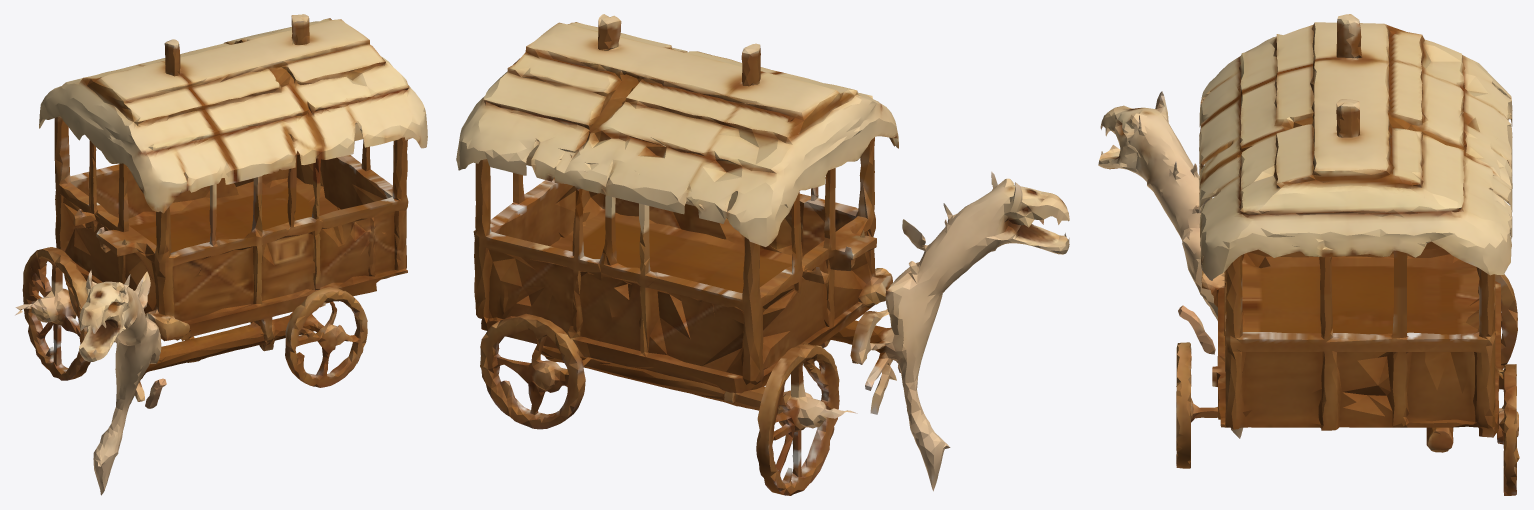
The model's file is undead_catapult.glb.
3 renders of one model, left to right at view 1: azimuth 30°, elevation 25°; view 2: azimuth 150°, elevation 25°; view 3: azimuth 270°, elevation 25°, orthographic. The views are drawn at different scales.
Parts seen in each view (by area): view 1: undead_catapult; view 2: undead_catapult; view 3: undead_catapult.
Boxes of the visible parts, <box> form: undead_catapult: <box>15,14,427,495</box>; undead_catapult: <box>456,14,1069,495</box>; undead_catapult: <box>1098,14,1519,495</box>.
Size of the model in its own units: 1.9 by 1.82 by 1.41.
Materials: 1 (1 with a texture image).
